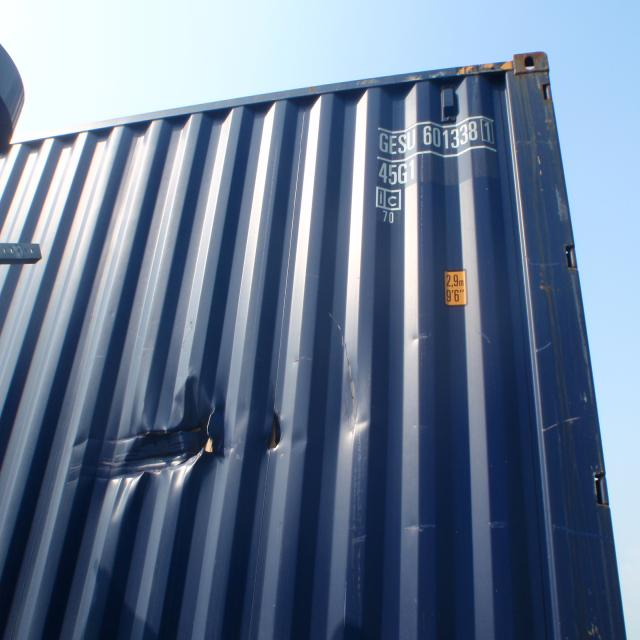dent: (67, 420, 135, 525), (334, 349, 380, 444), (167, 366, 212, 425)
